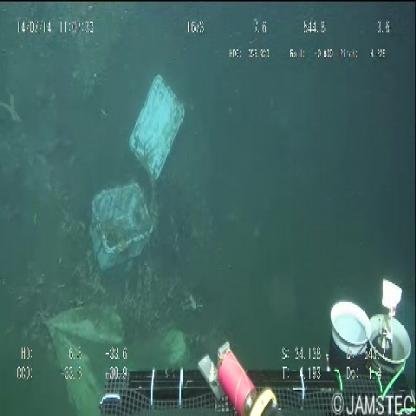Rov: (89, 277, 416, 416)
Rác: (86, 63, 186, 280)
